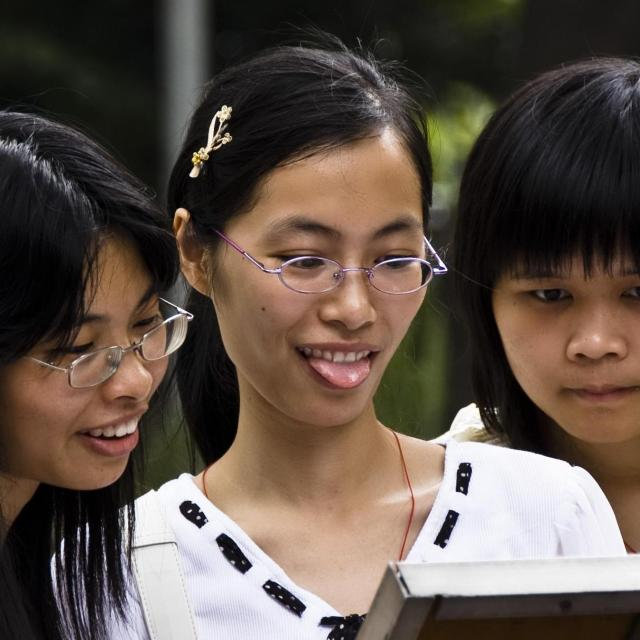no-glass: (40, 310, 165, 366), (278, 241, 427, 279), (516, 283, 640, 316)
